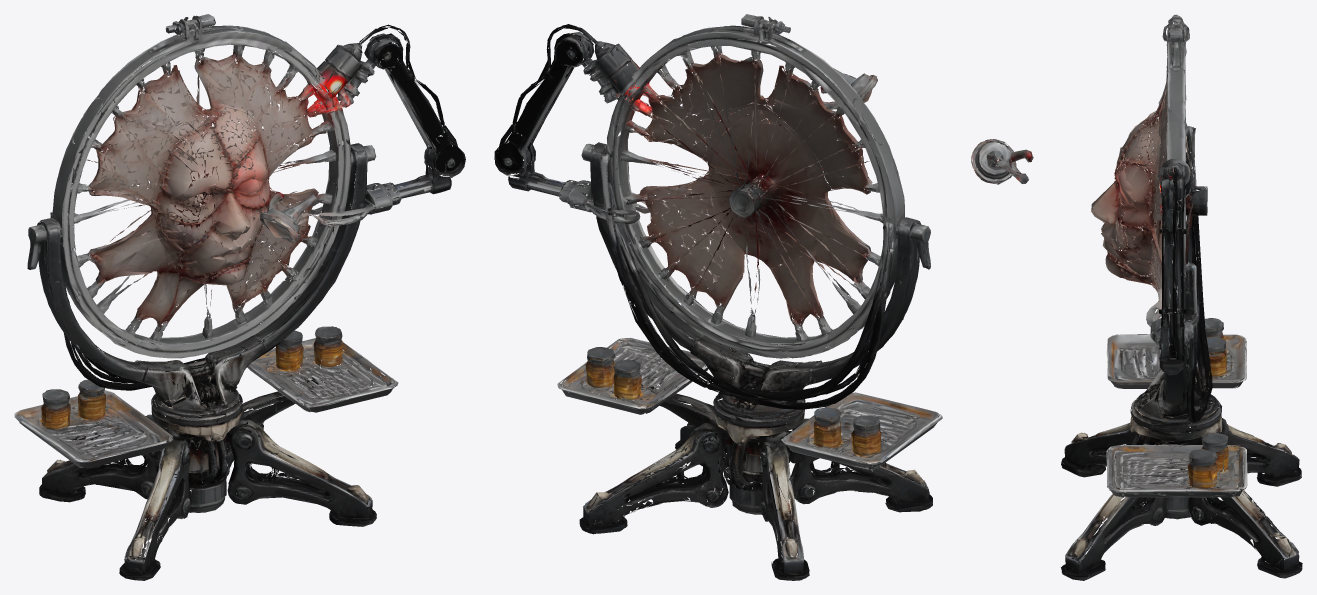
Rendered from tina_cosmetic_skin_loom.glb.
3 views of the same model, side by side, from view 1: azimuth 30°, elevation 25°; view 2: azimuth 150°, elevation 25°; view 3: azimuth 270°, elevation 25° (orthographic).
Parts seen in each view (by area): view 1: node_0; view 2: node_0; view 3: node_0.
Boxes of the visible parts, x1,y1,x2,y2 form: node_0: (14,14,465,580); node_0: (494,14,942,580); node_0: (971,14,1302,580).
Size of the model in its own units: 0.8399 by 0.9235 by 0.5619.
Materials: 1 (1 with a texture image).
